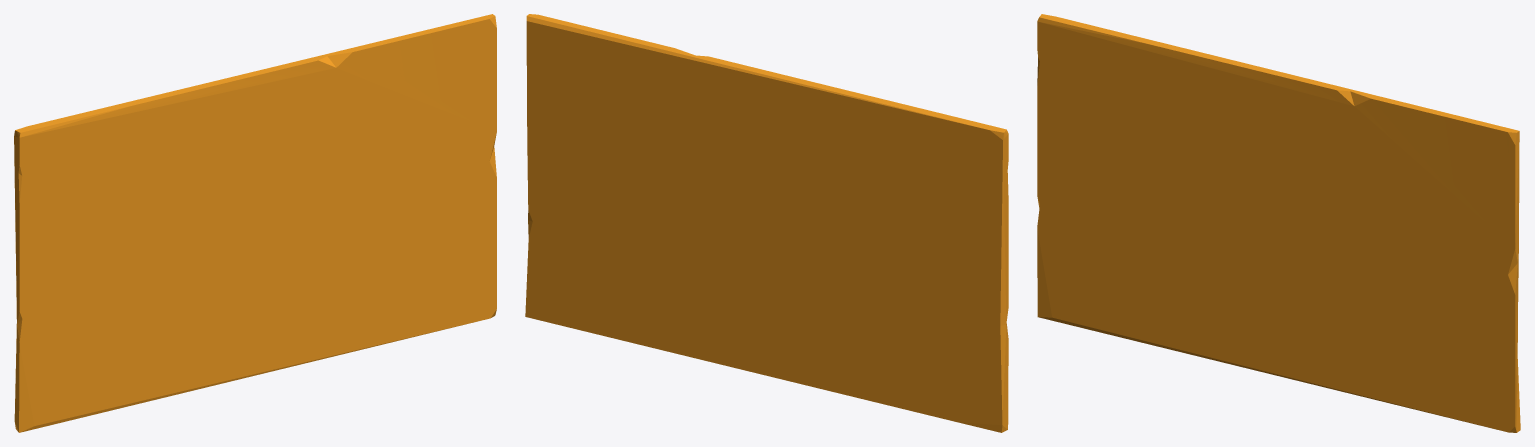
Rendered from SM_Buildings_Wall_5x3_01P.fbx.
The picture shows the model from 3 angles, left to right: view 1: azimuth 30°, elevation 25°; view 2: azimuth 150°, elevation 25°; view 3: azimuth 330°, elevation 25°; orthographic projection.
Visible parts, largest first — view 1: SM_Buildings_Wall_5x3_01P; view 2: SM_Buildings_Wall_5x3_01P; view 3: SM_Buildings_Wall_5x3_01P.
Part boxes in pixels (x1,y1,x2,y2): SM_Buildings_Wall_5x3_01P: (14, 14, 496, 432); SM_Buildings_Wall_5x3_01P: (525, 14, 1008, 432); SM_Buildings_Wall_5x3_01P: (1037, 14, 1520, 432).
Size of the model in its own units: 500 by 300 by 10.
